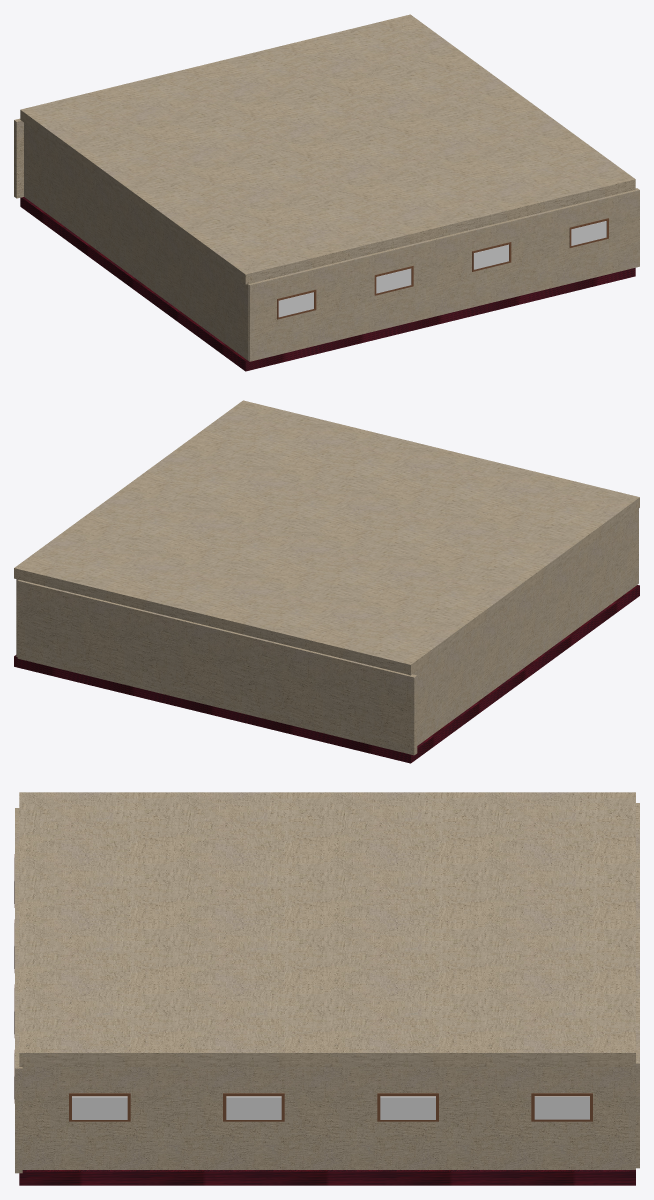
Rendered from updatedMap.glb.
The picture shows the model from 3 angles, top to bottom: view 1: azimuth 30°, elevation 25°; view 2: azimuth 150°, elevation 25°; view 3: azimuth 270°, elevation 25°; orthographic projection. The views are drawn at different scales.
Visible parts, largest first — view 1: ceiling, farWall, farRightWall, Floor, window_wall_2_bool.001, window_wall_2_bool.002, backWall; view 2: ceiling, backWall, farRightWall, Floor; view 3: ceiling, nearWall, Floor, window_bool, window_bool.001, farWall, backWall.
Part boxes in pixels (<box>): ceiling: <box>20,14,635,284</box>; farWall: <box>248,188,639,361</box>; farRightWall: <box>24,123,248,360</box>; Floor: <box>20,197,635,371</box>; window_wall_2_bool.001: <box>278,221,606,317</box>; window_wall_2_bool.002: <box>277,218,608,319</box>; backWall: <box>14,118,23,198</box>; ceiling: <box>14,400,639,675</box>; backWall: <box>17,580,417,755</box>; farRightWall: <box>412,509,637,745</box>; Floor: <box>14,585,639,763</box>; ceiling: <box>19,792,635,1066</box>; nearWall: <box>22,1067,635,1169</box>; Floor: <box>19,1170,635,1185</box>; window_bool: <box>72,1096,589,1119</box>; window_bool.001: <box>69,1093,592,1121</box>; farWall: <box>15,808,22,1173</box>; backWall: <box>636,803,639,1168</box>.
Size of the model in its own units: 81.53 by 19 by 81.2.
Materials: 15 (5 with a texture image).
